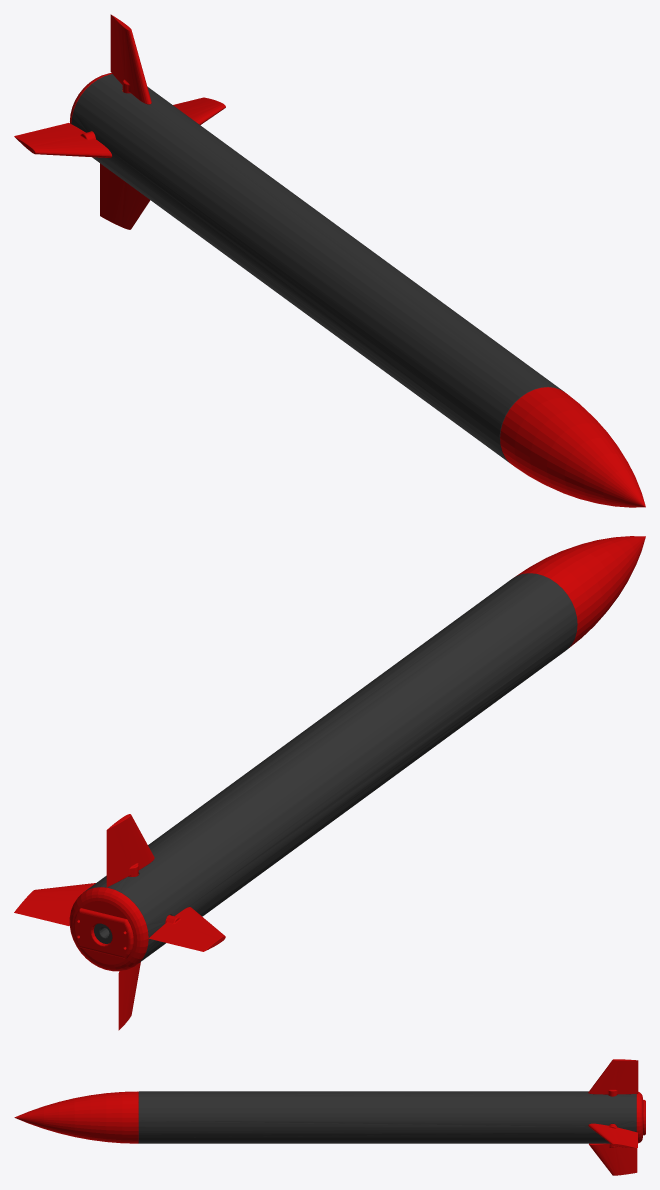
Rendered from ALBERT_assembly.obj.
3 renders of one model, top to bottom at view 1: azimuth 30°, elevation 25°; view 2: azimuth 150°, elevation 25°; view 3: azimuth 270°, elevation 25°, orthographic. The views are drawn at different scales.
Parts seen in each view (by area): view 1: ALBERT_assembly; view 2: ALBERT_assembly; view 3: ALBERT_assembly.
Part boxes in pixels (bbox=[...]): ALBERT_assembly: bbox=[14, 14, 645, 507]; ALBERT_assembly: bbox=[14, 536, 645, 1030]; ALBERT_assembly: bbox=[14, 1059, 645, 1175].
Size of the model in its own units: 205 by 205 by 1015.
